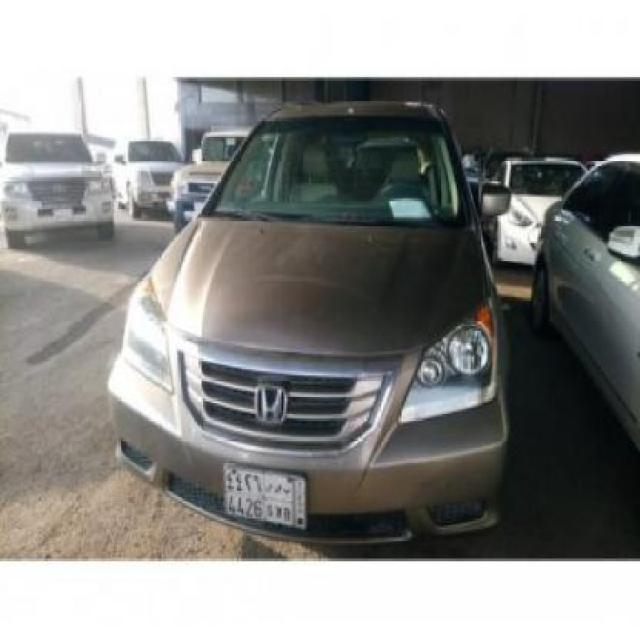license_plate: (224, 461, 310, 533)
